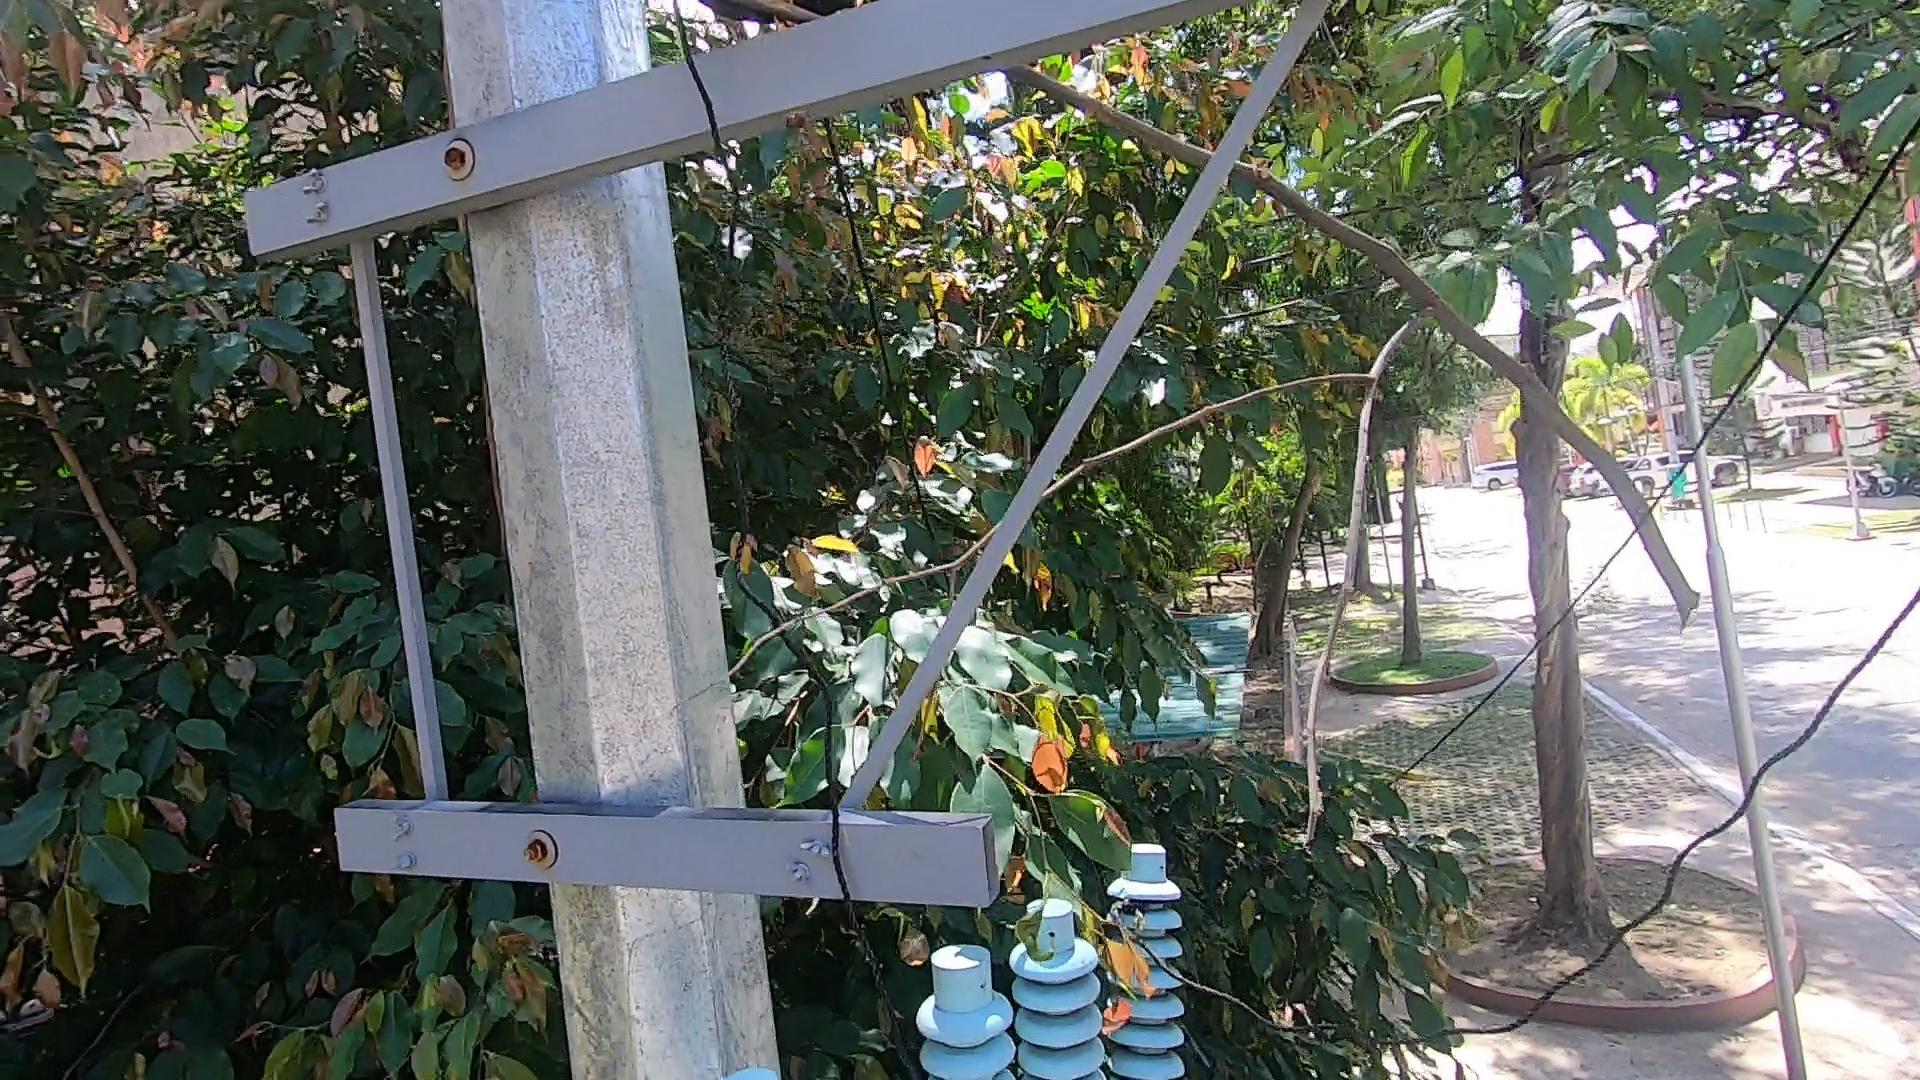branch with leaves: (1054, 870, 1151, 1040)
tree branch: (680, 3, 1747, 615)
